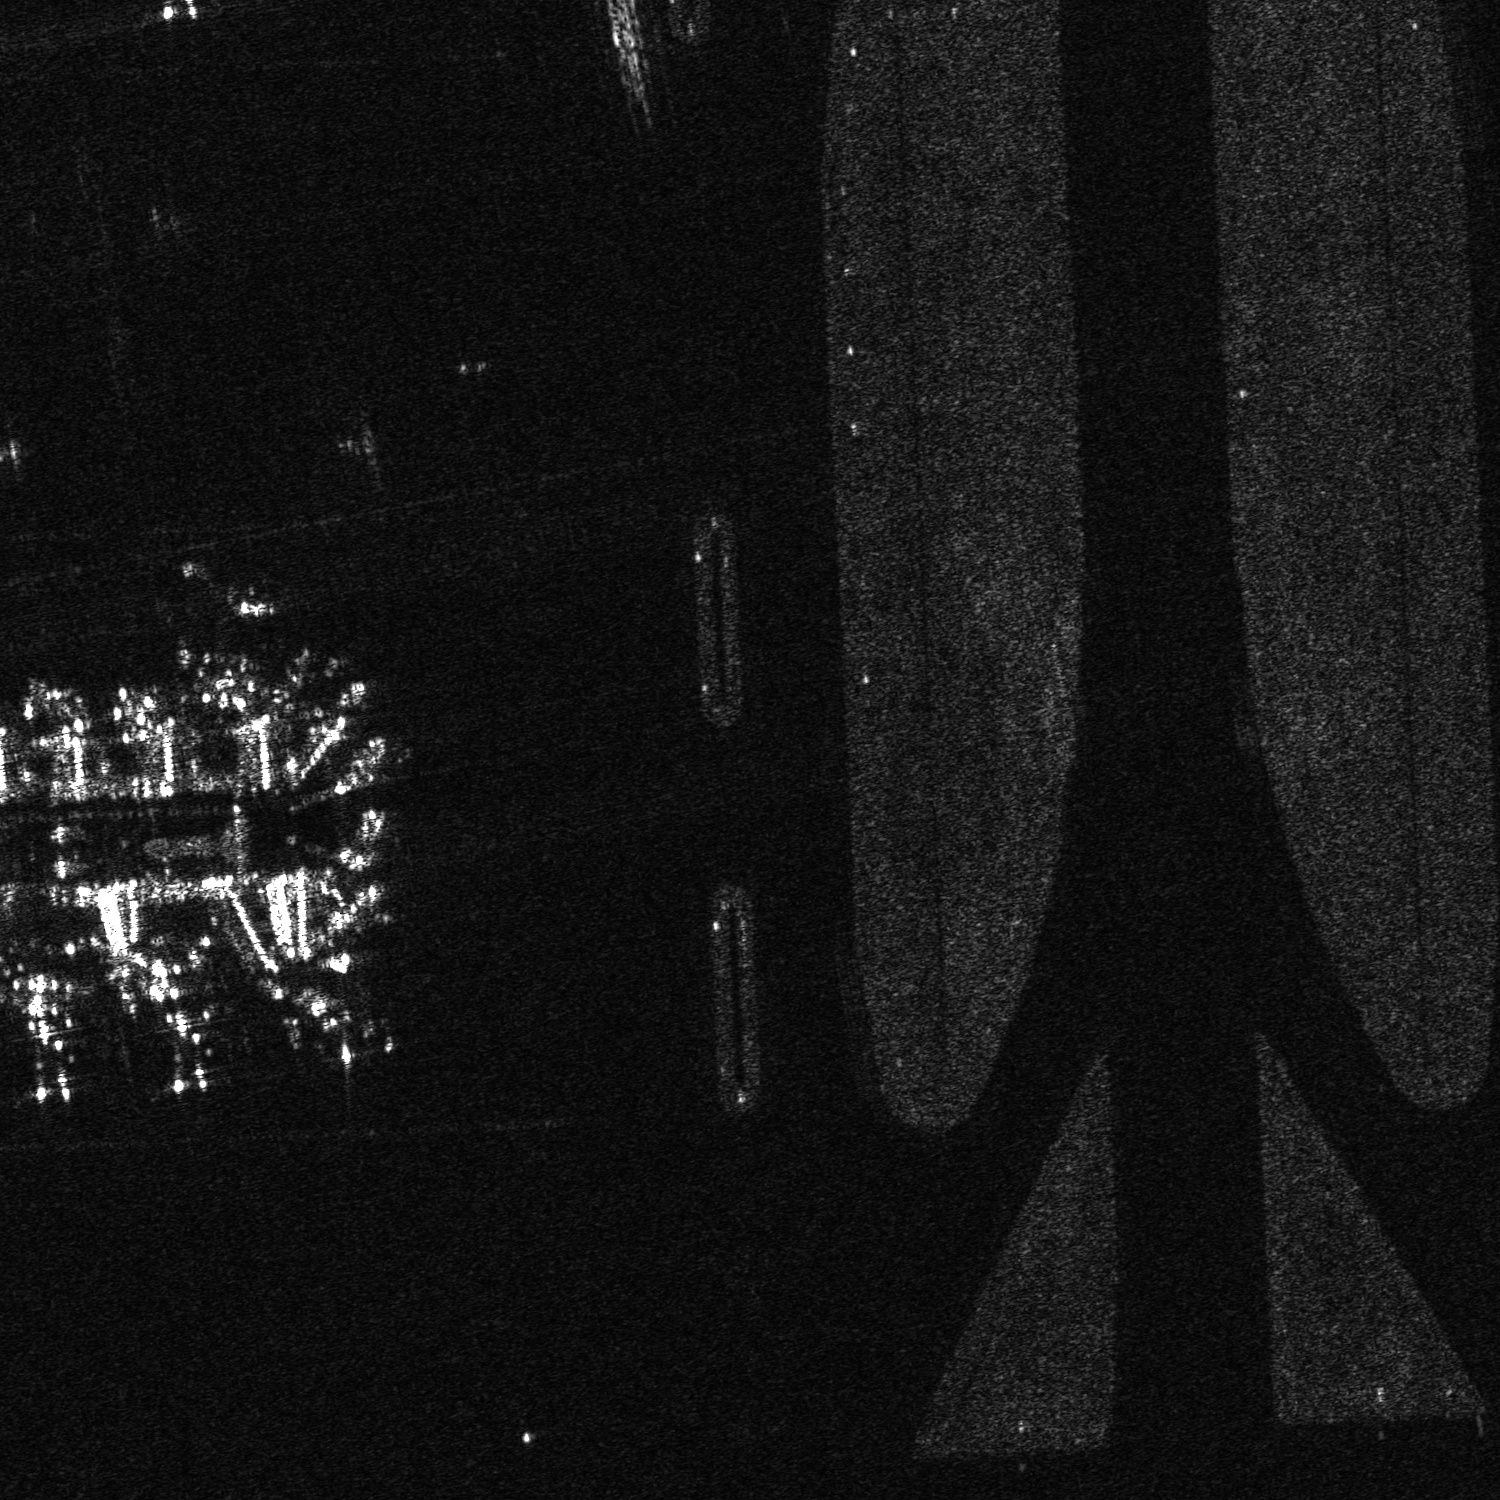A220: (174, 587, 277, 695)
Boeing737: (273, 979, 387, 1080)
other: (139, 977, 239, 1095)
